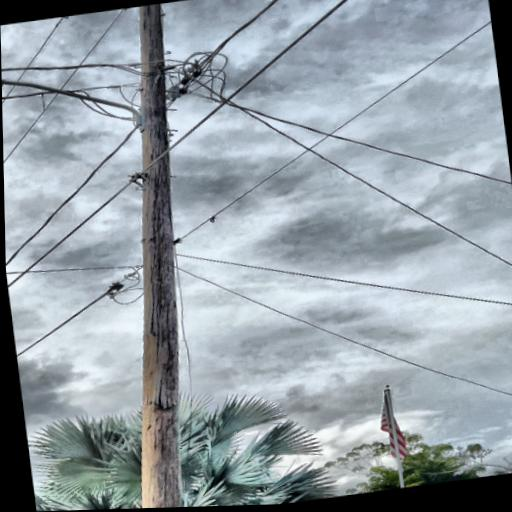pole: (41, 0, 249, 511)
street light: (1, 38, 159, 148)
